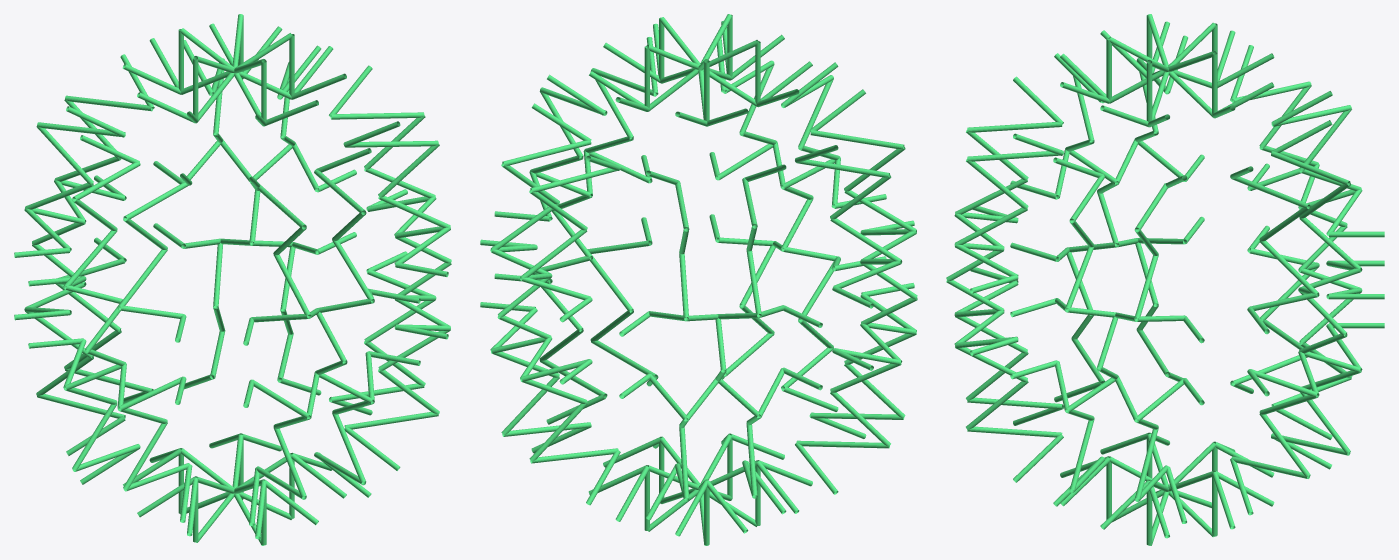
Rendered from trinexus4_2.glb.
3 renders of one model, left to right at view 1: azimuth 30°, elevation 25°; view 2: azimuth 150°, elevation 25°; view 3: azimuth 270°, elevation 25°, orthographic.
Parts seen in each view (by area): view 1: Mesh_31; view 2: Mesh_31; view 3: Mesh_31.
Boxes of the visible parts, x1,y1,x2,y2 form: Mesh_31: (14, 14, 451, 545); Mesh_31: (480, 14, 917, 545); Mesh_31: (946, 14, 1384, 545).
Size of the model in its own units: 9.54 by 11.73 by 9.59.
